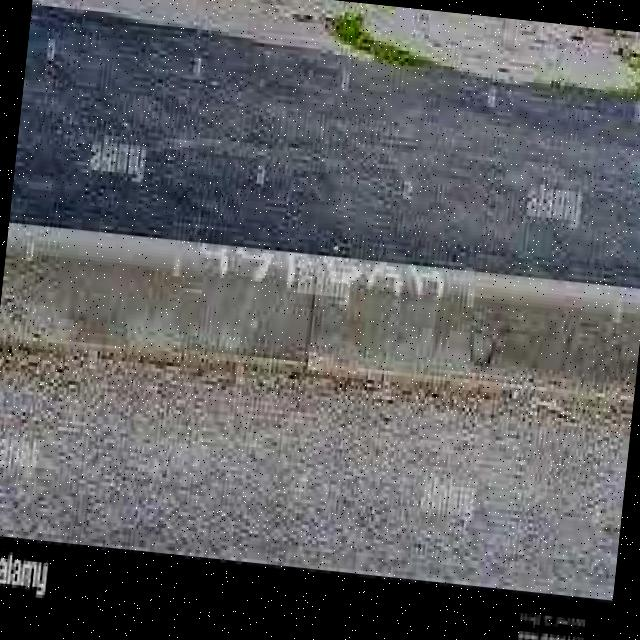curb: (1, 221, 640, 407)
